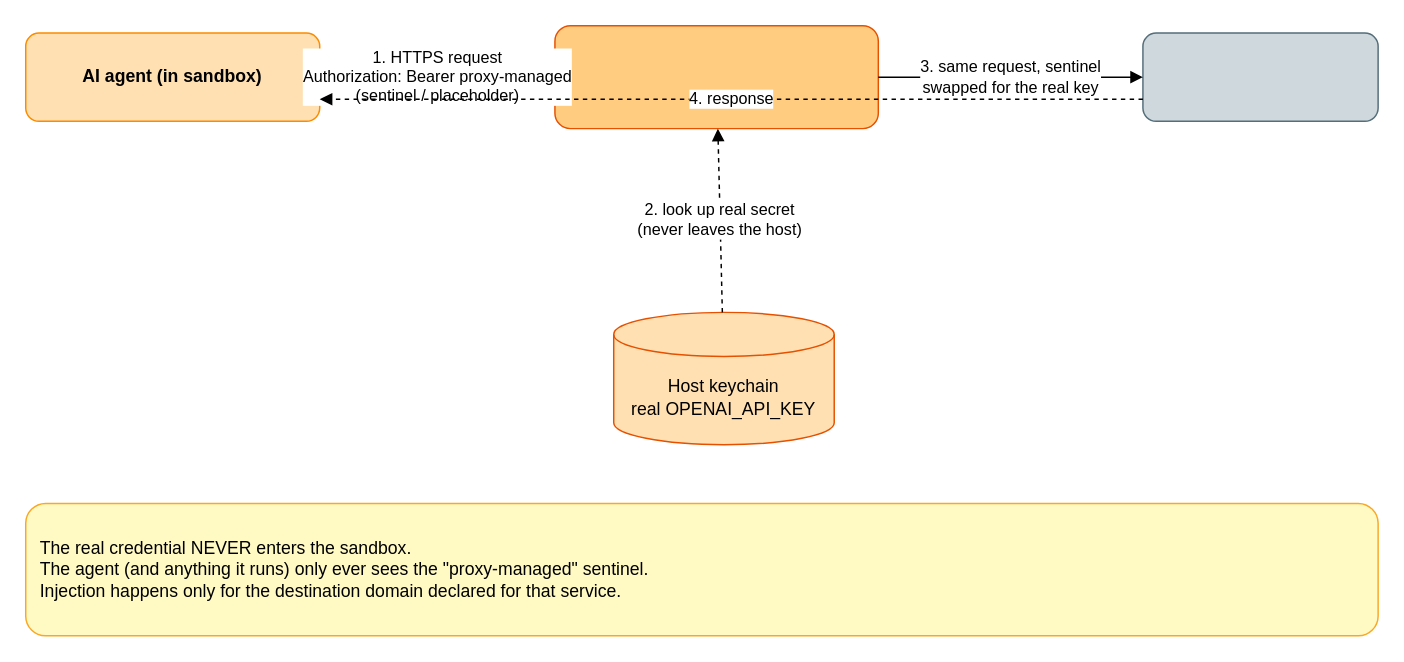
The diagram is 1404 pixels wide and 662 high, and some of its shapes have lost their labels. Each missing label, with the centre of its shape:
"api.openai.com" goes at pixel 1259 76.
"Host Proxy (MITM CA + policy + injection)" goes at pixel 715 76.
